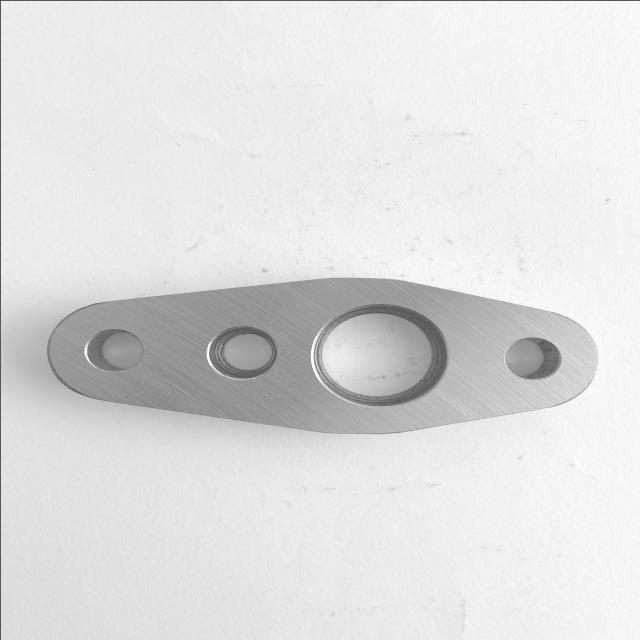chap: (266, 319, 274, 336), (147, 391, 153, 396), (285, 350, 291, 354)
